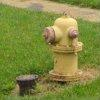a fire hydrant: (43, 16, 82, 78)
